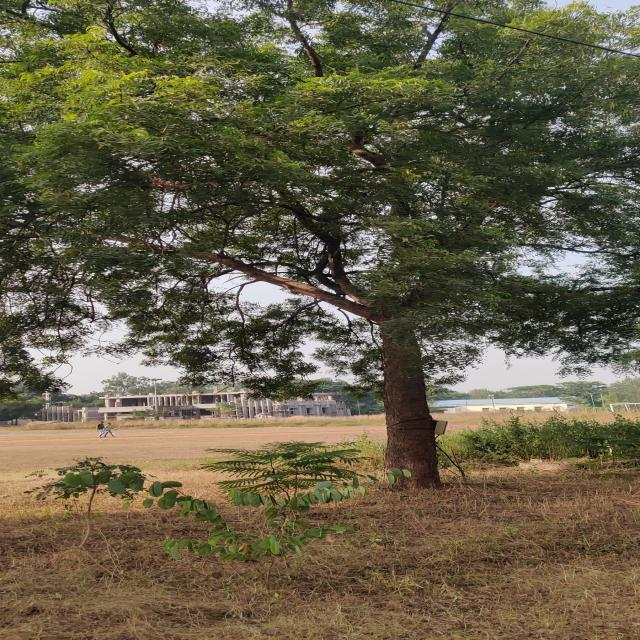Neem Tree: (36, 24, 640, 448)
